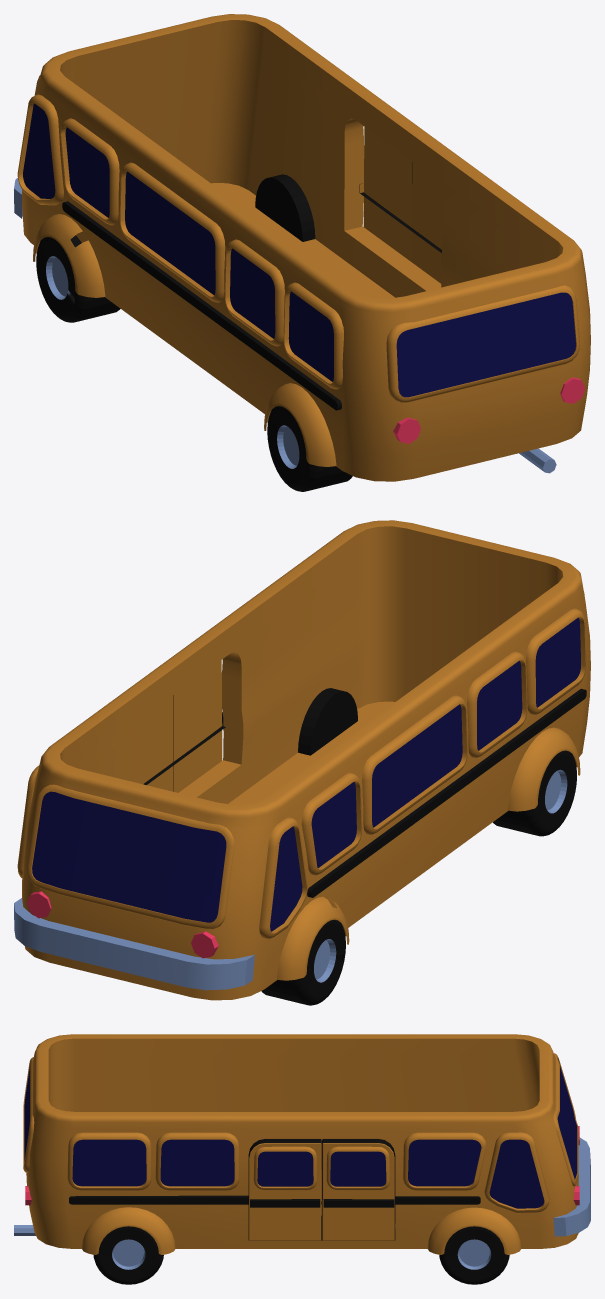
File: bus_new.fbx
3 views of the same model, one above another, from view 1: azimuth 30°, elevation 25°; view 2: azimuth 150°, elevation 25°; view 3: azimuth 270°, elevation 25° (orthographic). The views are drawn at different scales.
Visible parts, largest first — view 1: Bus_Body, Bus_Wheel, Bus_Door_R, Bus_Door_L; view 2: Bus_Body, Bus_Wheel, Bus_Door_L, Bus_Door_R; view 3: Bus_Body, Bus_Door_L, Bus_Door_R, Bus_Wheel.
Boxes of the visible parts, left/top/right/bottom form: Bus_Body: left=14, top=14, right=590, bottom=481; Bus_Wheel: left=36, top=174, right=352, bottom=491; Bus_Door_R: left=363, top=126, right=412, bottom=262; Bus_Door_L: left=412, top=162, right=442, bottom=283; Bus_Body: left=14, top=520, right=590, bottom=1000; Bus_Wheel: left=261, top=688, right=576, bottom=1005; Bus_Door_L: left=173, top=660, right=222, bottom=792; Bus_Door_R: left=143, top=695, right=173, bottom=791; Bus_Body: left=14, top=1034, right=590, bottom=1254; Bus_Door_L: left=248, top=1139, right=321, bottom=1240; Bus_Door_R: left=322, top=1139, right=395, bottom=1240; Bus_Wheel: left=93, top=1226, right=509, bottom=1284.
Bounding box in the file's own units: 324 × 248 × 797.
